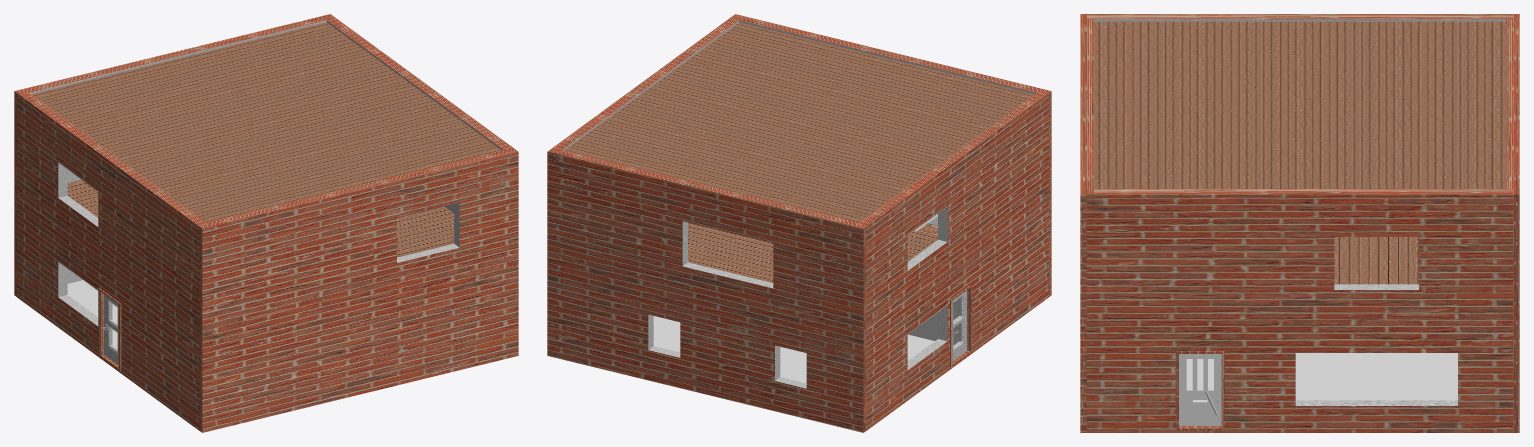
The model's file is Huis2_joined.fbx.
3 views of the same model, side by side, from view 1: azimuth 30°, elevation 25°; view 2: azimuth 150°, elevation 25°; view 3: azimuth 270°, elevation 25° (orthographic). The views are drawn at different scales.
Visible parts, largest first — view 1: House, Ceiling, Floor_upstairs, Floor_bottom, BackyardDoor, Frame_backyard; view 2: House, Ceiling, Floor_upstairs, Floor_bottom, BackyardDoor, Frame_backyard; view 3: House, Ceiling, Floor_bottom, Floor_upstairs, Frontdoor, Frame_frontdoor.
Boxes of the visible parts, x1,y1,x2,y2 form: House: [14, 14, 518, 432]; Ceiling: [31, 22, 500, 222]; Floor_upstairs: [67, 180, 454, 257]; Floor_bottom: [67, 280, 117, 348]; BackyardDoor: [103, 294, 118, 364]; Frame_backyard: [99, 288, 121, 371]; House: [547, 14, 1051, 432]; Ceiling: [565, 22, 1034, 222]; Floor_upstairs: [688, 222, 937, 282]; Floor_bottom: [653, 316, 934, 383]; BackyardDoor: [952, 290, 967, 361]; Frame_backyard: [950, 285, 971, 367]; House: [1080, 14, 1519, 432]; Ceiling: [1093, 21, 1506, 188]; Floor_bottom: [1186, 353, 1457, 400]; Floor_upstairs: [1334, 237, 1418, 284]; Frontdoor: [1179, 354, 1221, 425]; Frame_frontdoor: [1176, 351, 1224, 430].
Size of the model in its own units: 1010 by 617 by 1030.
